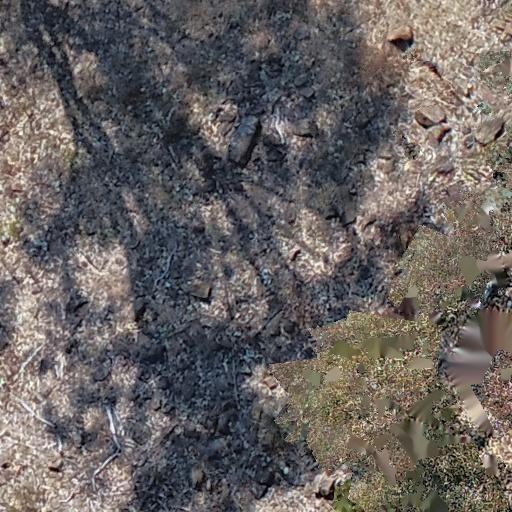stone: (70, 50, 107, 96), (205, 273, 237, 321), (409, 66, 449, 100), (211, 100, 239, 130), (266, 114, 290, 146), (262, 308, 286, 338), (236, 116, 253, 158), (441, 181, 468, 207), (477, 118, 503, 143), (416, 106, 448, 126), (262, 408, 278, 448), (64, 292, 86, 314), (38, 354, 60, 376), (265, 48, 281, 78), (89, 363, 113, 383), (206, 436, 229, 456), (213, 332, 237, 351), (184, 467, 203, 490), (430, 126, 453, 144), (258, 469, 277, 490), (316, 473, 332, 495), (160, 420, 179, 438), (402, 140, 419, 160), (254, 482, 272, 500), (291, 127, 315, 140), (289, 203, 299, 233), (394, 28, 412, 44), (293, 72, 311, 88), (191, 285, 214, 297), (435, 158, 452, 174), (129, 301, 145, 317), (334, 246, 350, 262), (462, 133, 476, 151), (126, 235, 141, 250), (8, 180, 24, 194), (300, 85, 316, 99), (190, 219, 205, 233), (498, 30, 510, 46), (253, 36, 268, 48), (279, 461, 291, 476), (264, 374, 276, 388), (289, 248, 301, 262), (343, 206, 354, 221), (382, 161, 395, 173), (220, 413, 230, 428), (185, 422, 195, 436), (496, 21, 507, 33), (205, 478, 213, 492), (48, 465, 62, 473)
